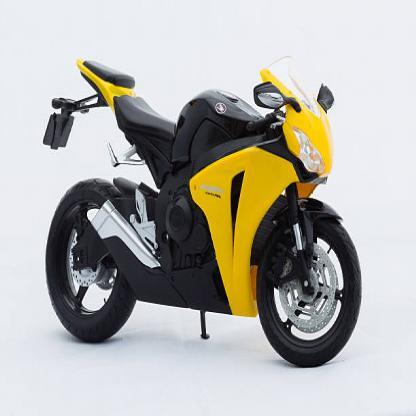Motorcycle: (37, 49, 366, 380)
